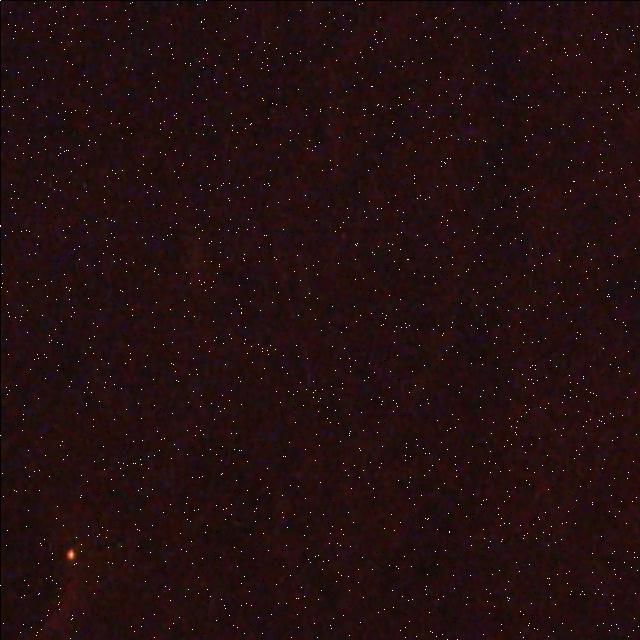Fragment: (64, 546, 80, 564)
